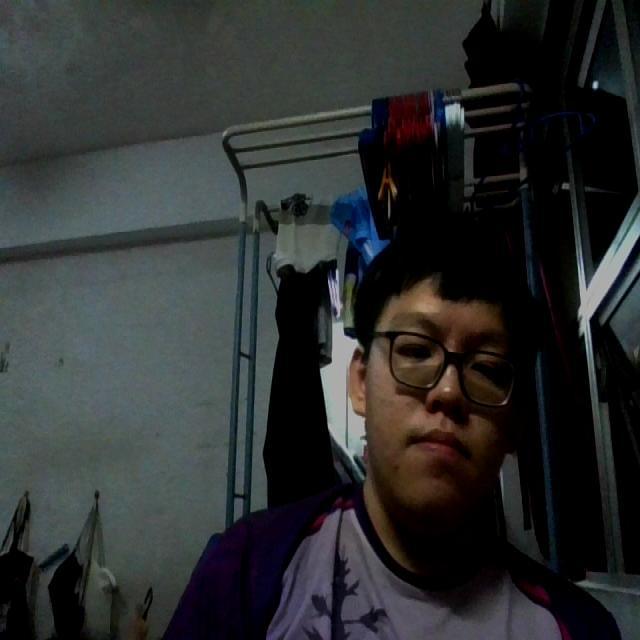person_without_labcoat: (165, 216, 619, 639)
